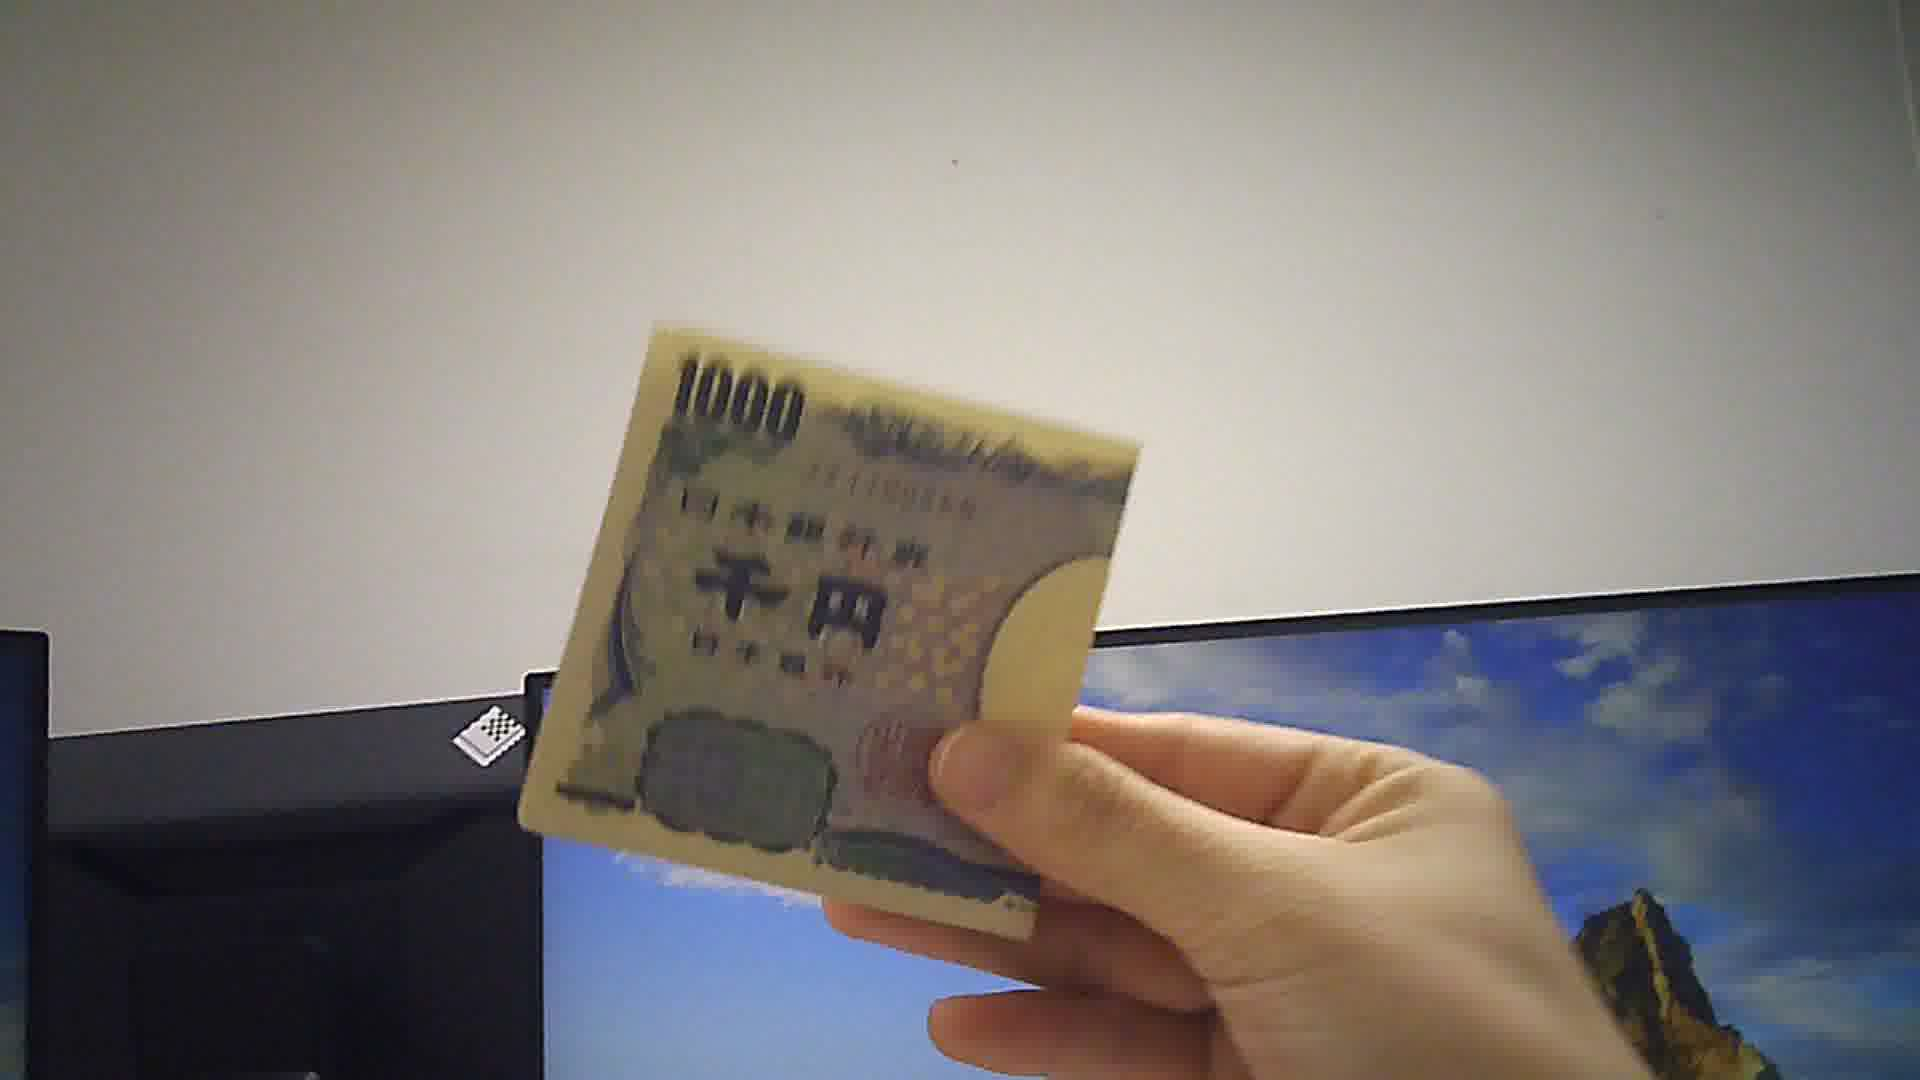1,000 Yen: (501, 320, 1147, 967)
